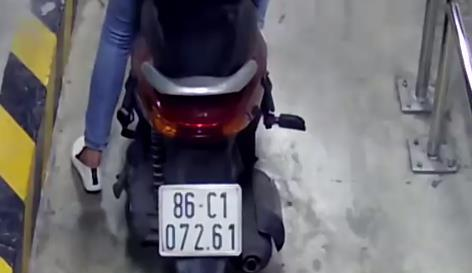lisence: (157, 184, 244, 257)
